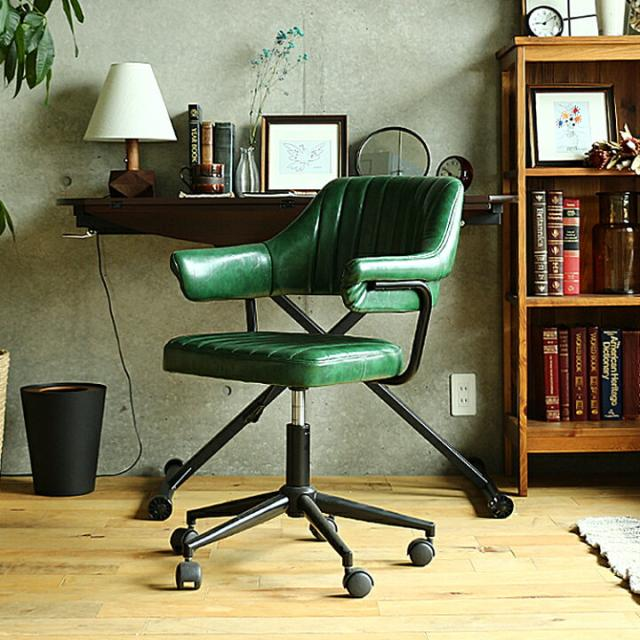chair vintage: (152, 172, 468, 598)
